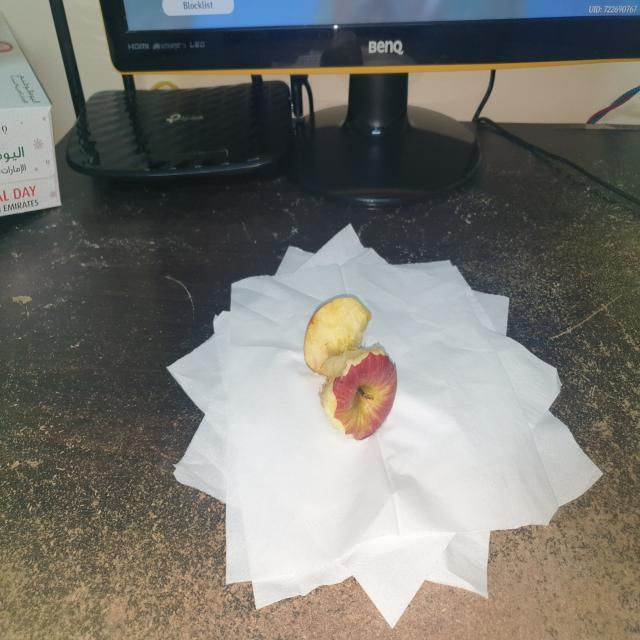apple: (297, 290, 404, 445)
